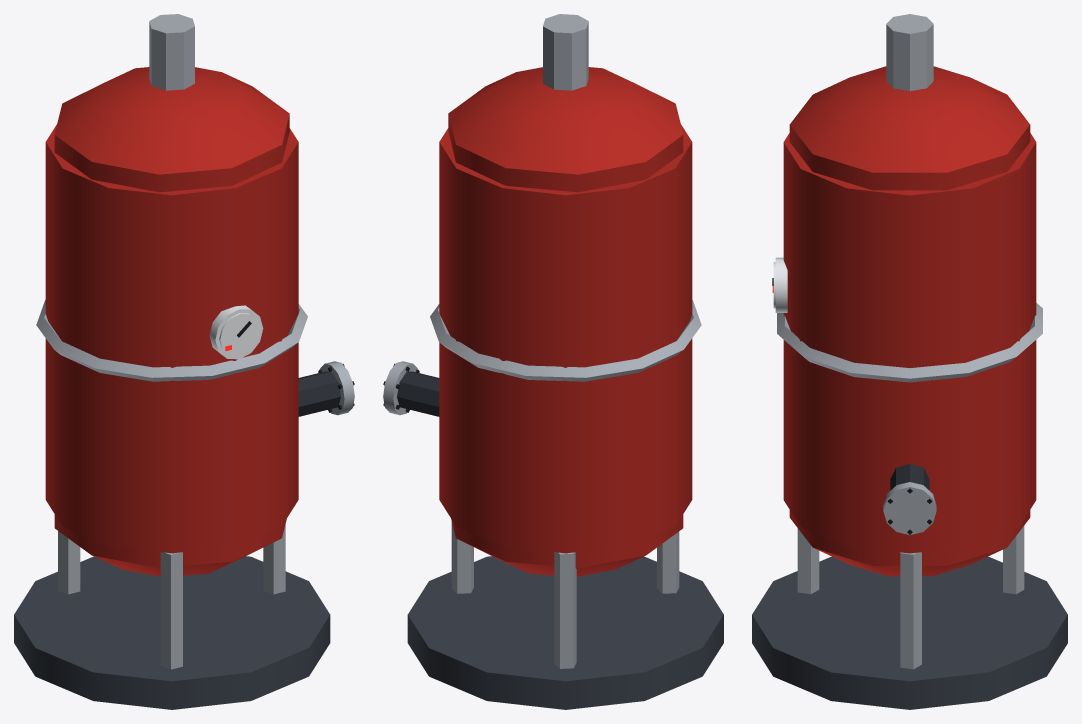
Rendered from tank_accumulator_tank.glb.
3 views of the same model, side by side, from view 1: azimuth 30°, elevation 25°; view 2: azimuth 150°, elevation 25°; view 3: azimuth 270°, elevation 25° (orthographic).
Parts seen in each view (by area): view 1: tank_accumulator_tank; view 2: tank_accumulator_tank; view 3: tank_accumulator_tank.
Part boxes in pixels (<box>): tank_accumulator_tank: <box>14,14,354,709</box>; tank_accumulator_tank: <box>383,14,723,709</box>; tank_accumulator_tank: <box>752,14,1067,709</box>.
Size of the model in its own units: 0.901 by 1.73 by 0.8.
